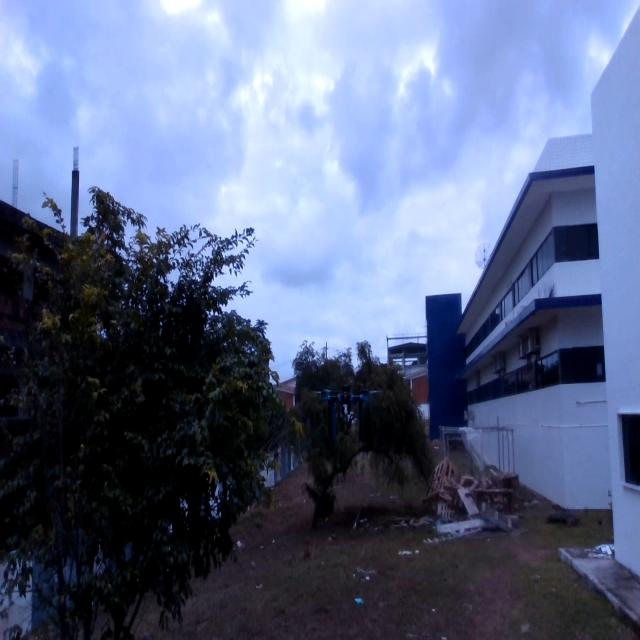-uav-: (308, 375, 397, 456)
